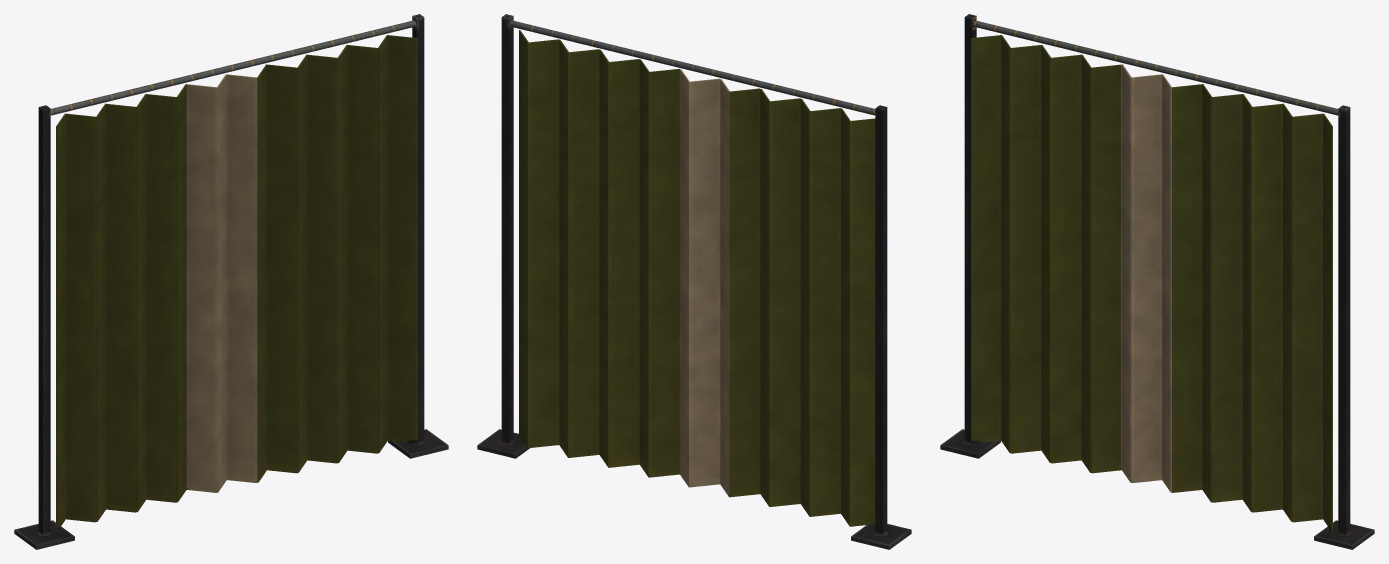
Rendered from curtain_partition.glb.
The picture shows the model from 3 angles, left to right: view 1: azimuth 30°, elevation 25°; view 2: azimuth 150°, elevation 25°; view 3: azimuth 330°, elevation 25°; orthographic projection.
Visible parts, largest first — view 1: curtain_partition; view 2: curtain_partition; view 3: curtain_partition.
Boxes of the visible parts, box(x1,y1,x2,y2) form: curtain_partition: box(14, 14, 448, 549); curtain_partition: box(477, 14, 911, 549); curtain_partition: box(940, 14, 1374, 549).
Size of the model in its own units: 2.14 by 2.13 by 0.2.
1 material, 1 textured.
